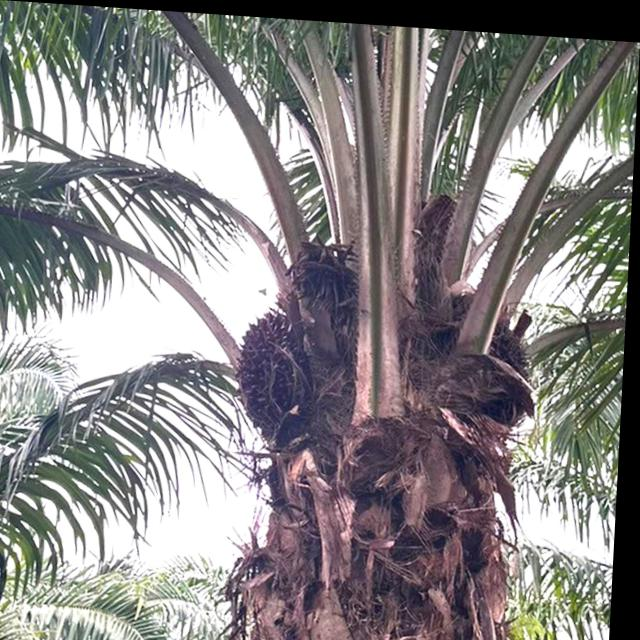ripe: (237, 309, 301, 426)
